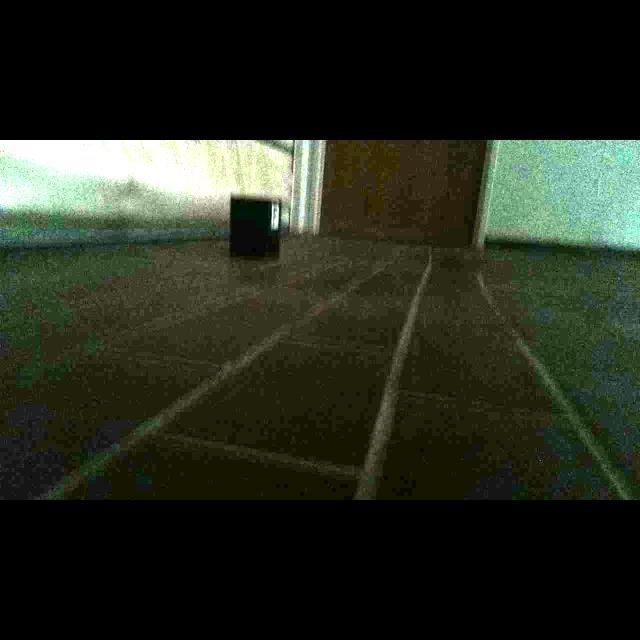F: (273, 209, 277, 224)
